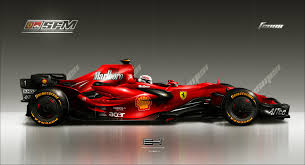f1_car: (13, 55, 297, 131)
